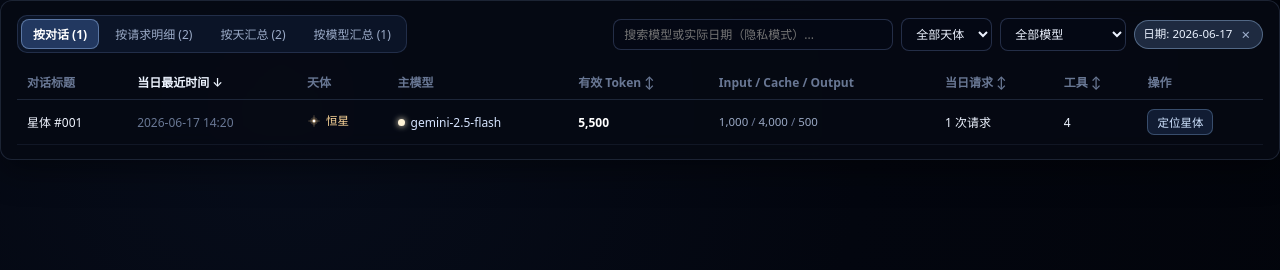
Scenario: TopBar, StarHeatmap, UsageTables, StatsTab & App Integration › supports per-request 按请求明细 view, slices 按对话 metrics by selectedDate, and locates exact request star
Later steps or results of the test are not shown.
Click the tab "按请求明细 (2)". click: (154, 34)
box: [103,19,204,49]
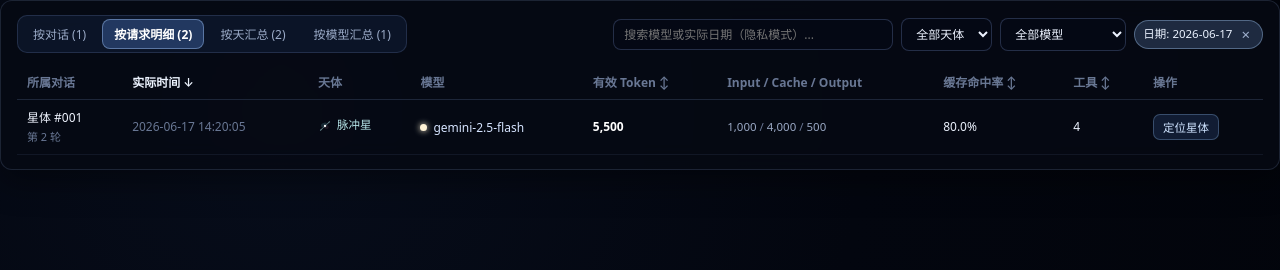
Check: the text "星体 #001" is shown, box [27,109,82,126]
Check: the text "80.0%" is shown, box [933,100,1063,154]
Click the button "定位星体". click: (1186, 127)
box: [1153,114,1219,140]
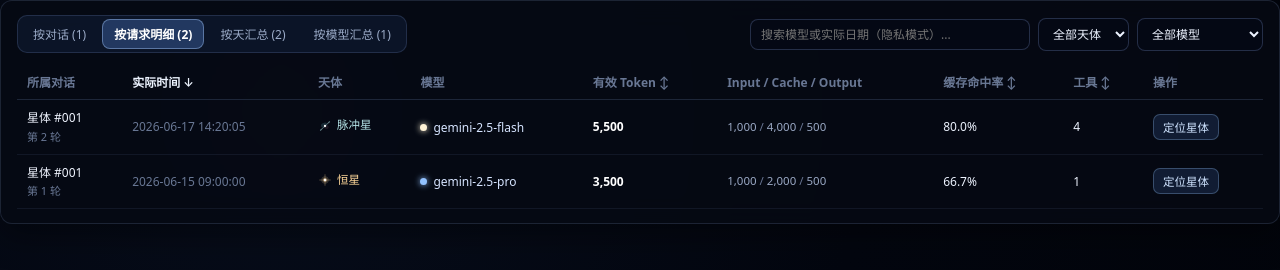
Check: the button "缓存命中率 ↕" is shown, box [943,73,1016,91]
Check: the text "80.0%" is shown, box [933,100,1063,154]
Check: the text "66.7%" is shown, box [933,154,1063,208]
